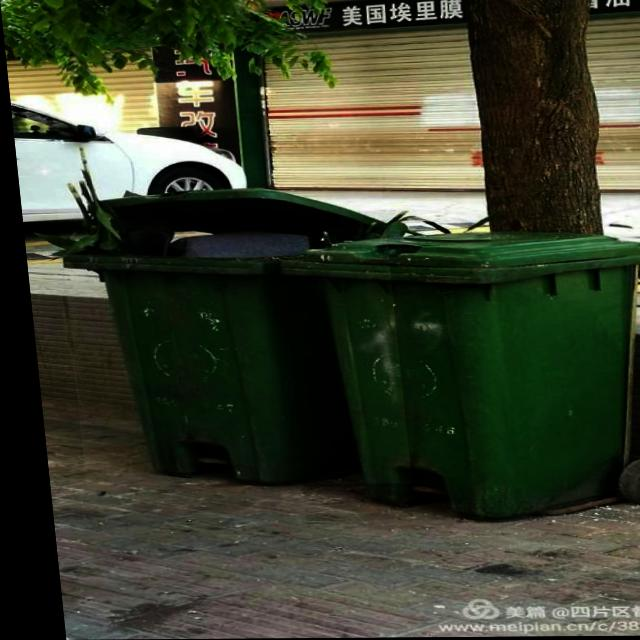garbage_bin: (271, 230, 640, 521)
overflow: (51, 187, 402, 486)
